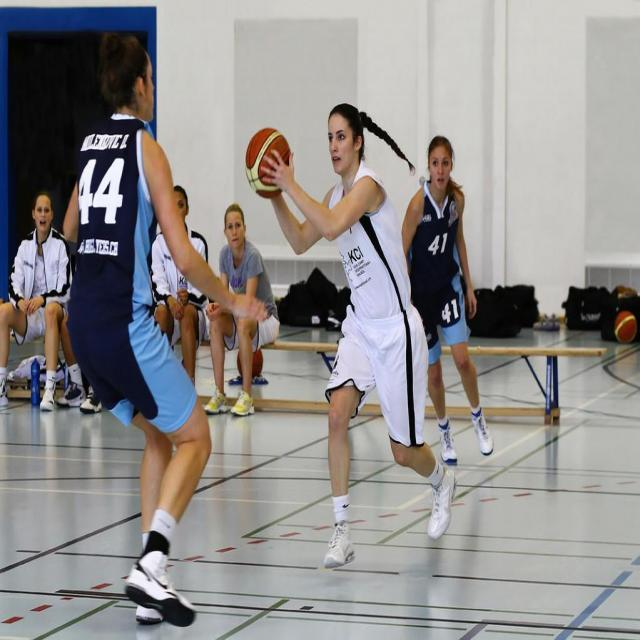rim: (243, 129, 294, 199)
